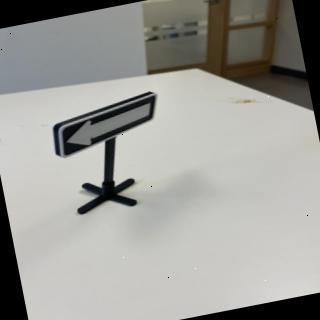sign_oneway_left: (47, 90, 166, 159)
